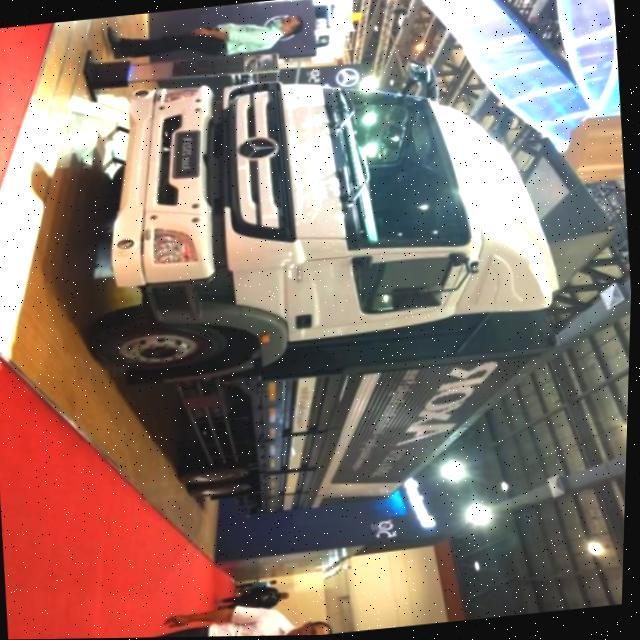truck: (86, 46, 604, 531)
